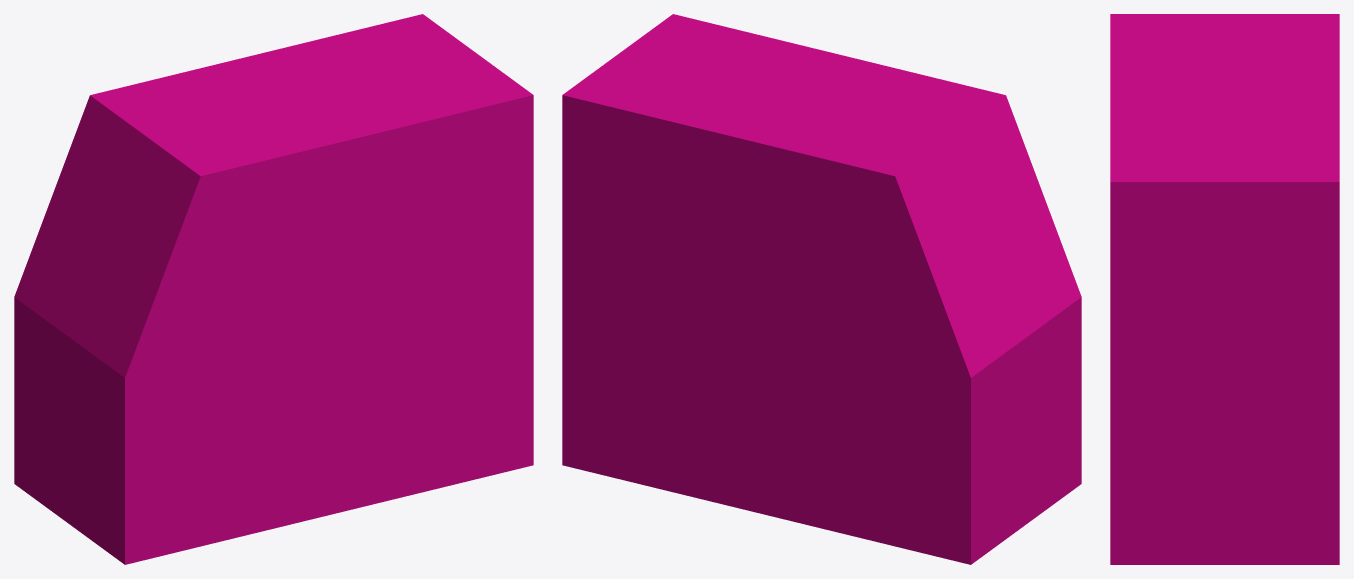
3 views of the same model, side by side, from view 1: azimuth 30°, elevation 25°; view 2: azimuth 150°, elevation 25°; view 3: azimuth 270°, elevation 25° (orthographic). The views are drawn at different scales.
Bounding box in the file's own units: 0.35 × 0.303 × 0.1643.
